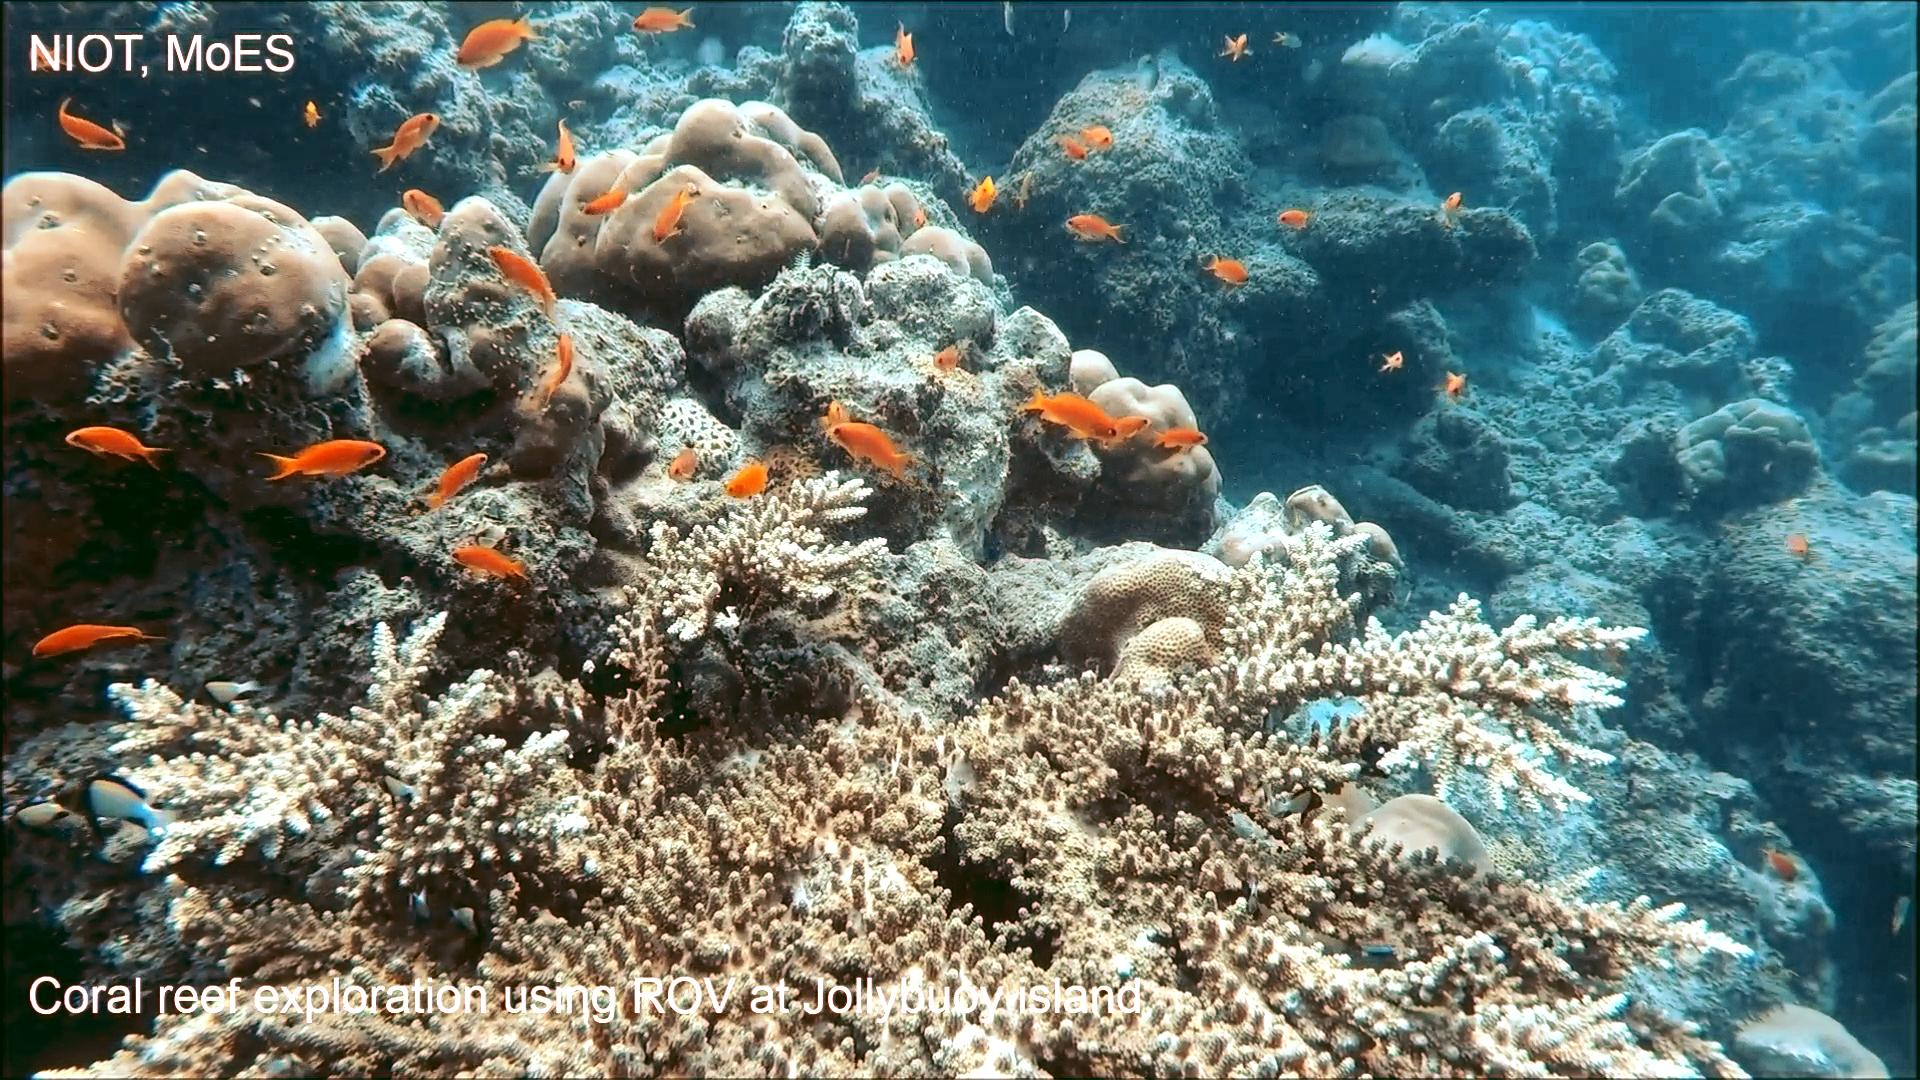Porites-Porites pukoensis: (0, 158, 351, 411), (522, 88, 880, 303)
